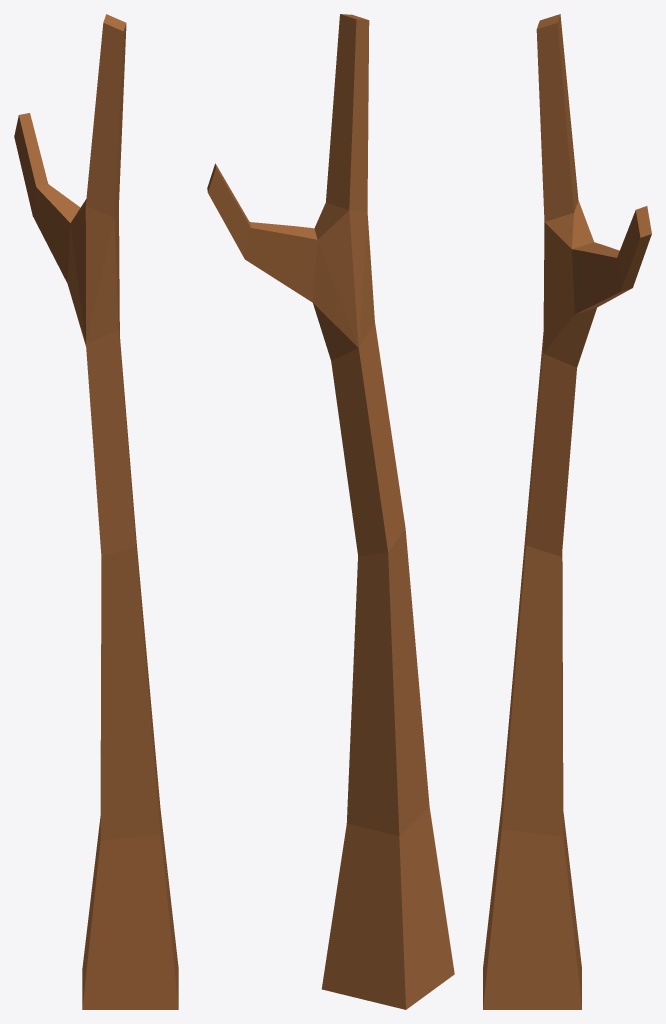
The model's file is Trunk_4.fbx.
3 renders of one model, left to right at view 1: azimuth 90°, elevation 25°; view 2: azimuth 150°, elevation 25°; view 3: azimuth 270°, elevation 25°, orthographic. The views are drawn at different scales.
Parts seen in each view (by area): view 1: M_Trunk 4; view 2: M_Trunk 4; view 3: M_Trunk 4.
Boxes of the visible parts, bbox=[...] form: M_Trunk 4: bbox=[14, 14, 178, 1009]; M_Trunk 4: bbox=[207, 14, 454, 1009]; M_Trunk 4: bbox=[483, 14, 651, 1009].
Bounding box in the file's own units: 27.73 × 151 × 23.48.
Materials: 1 (1 with a texture image).
